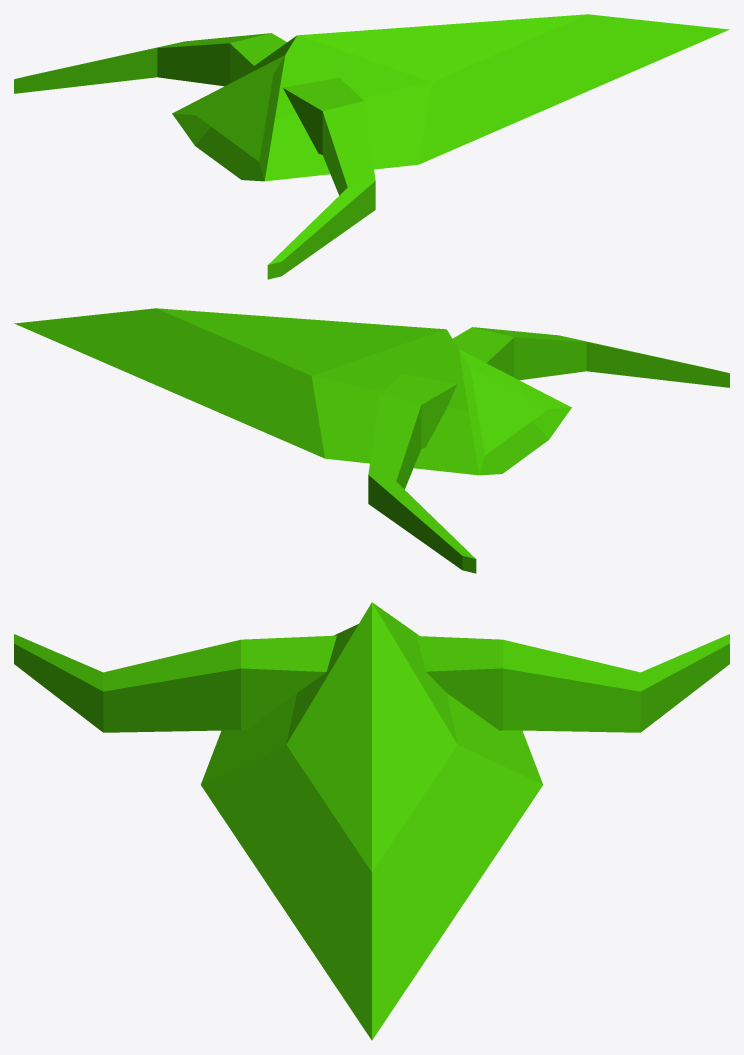
Rendered from ForceShieldGreen.fbx.
The picture shows the model from 3 angles, top to bottom: view 1: azimuth 30°, elevation 25°; view 2: azimuth 150°, elevation 25°; view 3: azimuth 270°, elevation 25°; orthographic projection. The views are drawn at different scales.
Visible parts, largest first — view 1: Cube; view 2: Cube; view 3: Cube.
Part boxes in pixels (left/top/right/bottom): Cube: left=14, top=14, right=729, bottom=279; Cube: left=14, top=308, right=729, bottom=573; Cube: left=14, top=602, right=729, bottom=1040.
Bounding box in the file's own units: 792 × 148 × 591.
